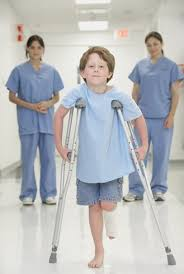crutches: (49, 45, 177, 267)
